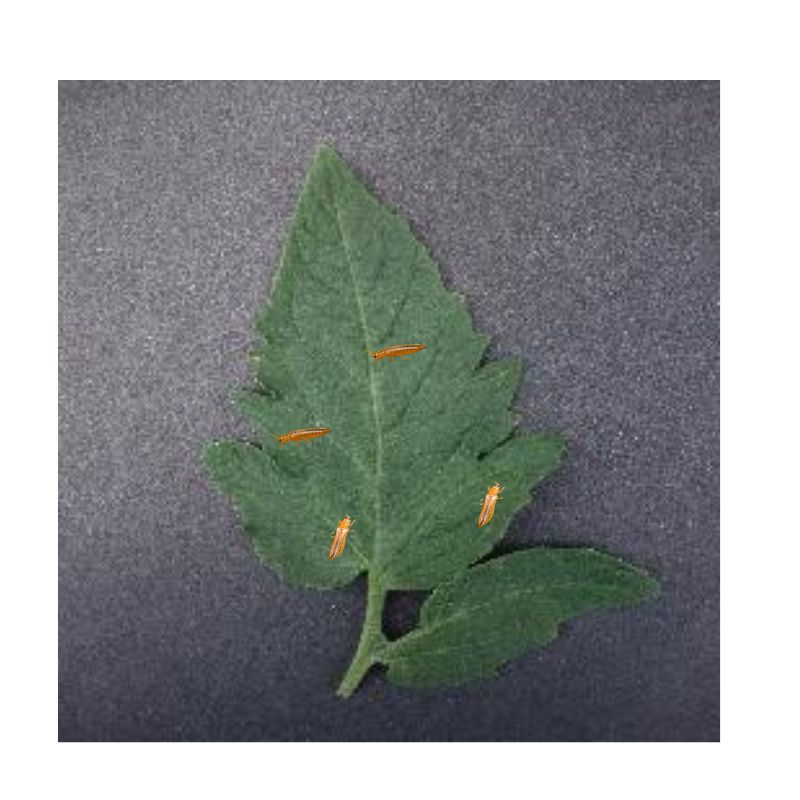thrips: (474, 480, 504, 529), (273, 425, 332, 448), (326, 515, 356, 560), (368, 342, 428, 361)
